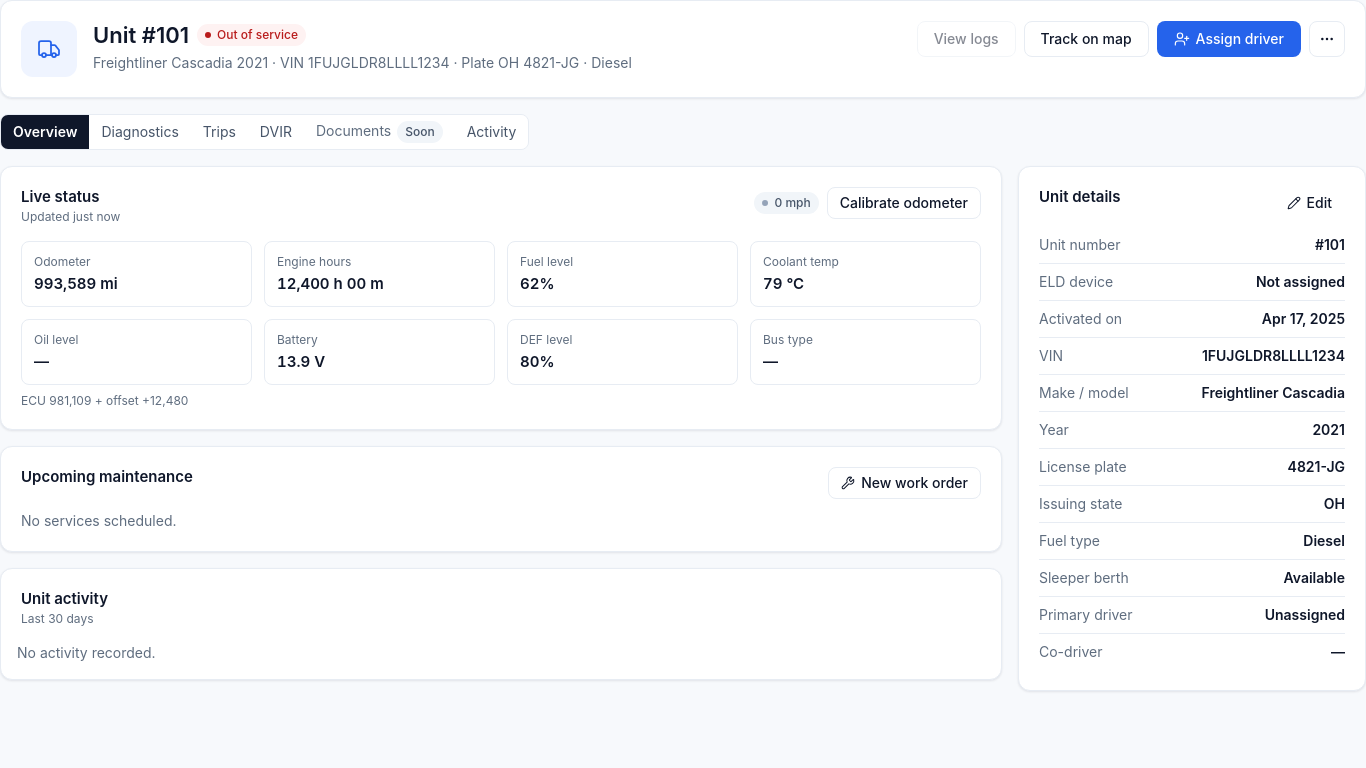
W-04 Unit profile — Assign driver stays clickable when OUT_OF_SERVICE › opens AssignDriverModal, which states the refusal, instead of disabling the button
Check: the heading "Unit #101" is shown, box [93, 21, 189, 49]
Click the button "Assign driver" at (1229, 39), box [1157, 21, 1301, 57]
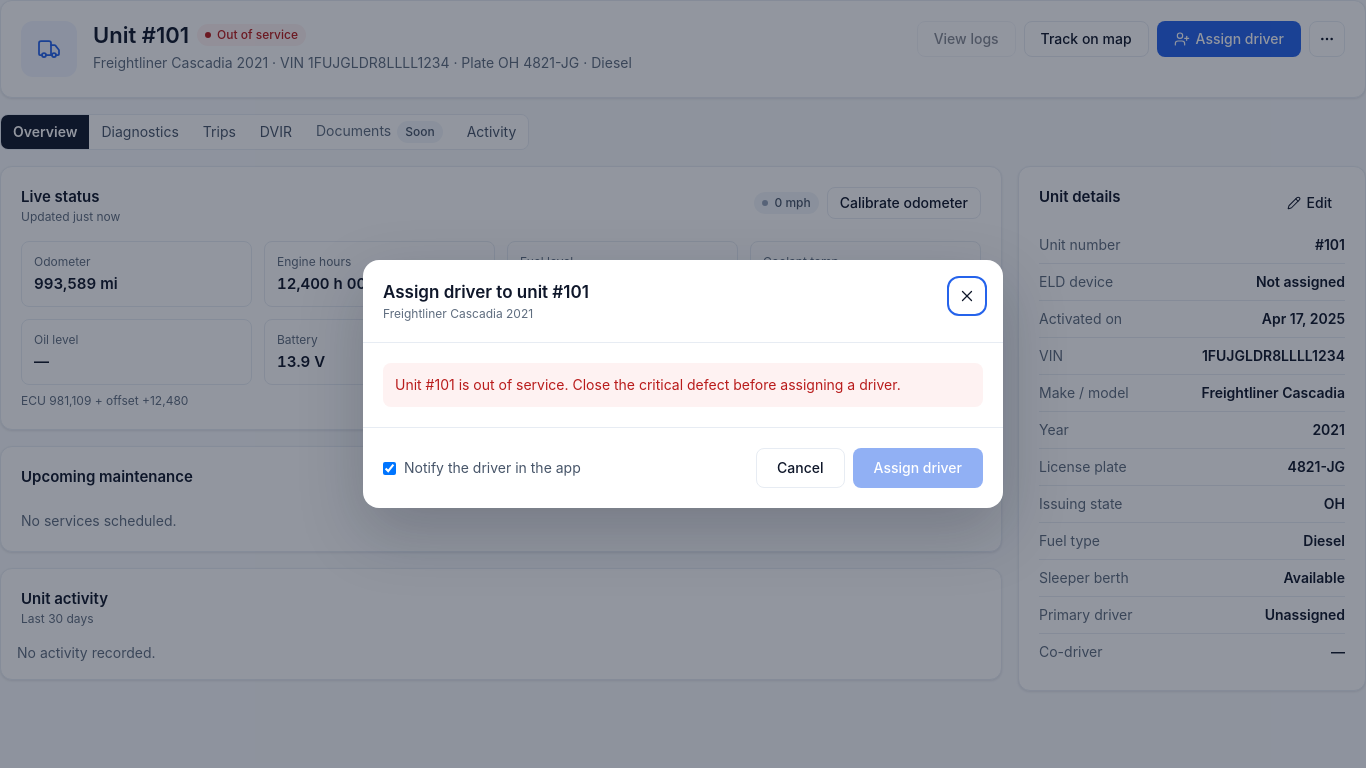
Check: the text "is out of service. Close the critical defect before assigning" is shown, box [455, 376, 901, 393]
